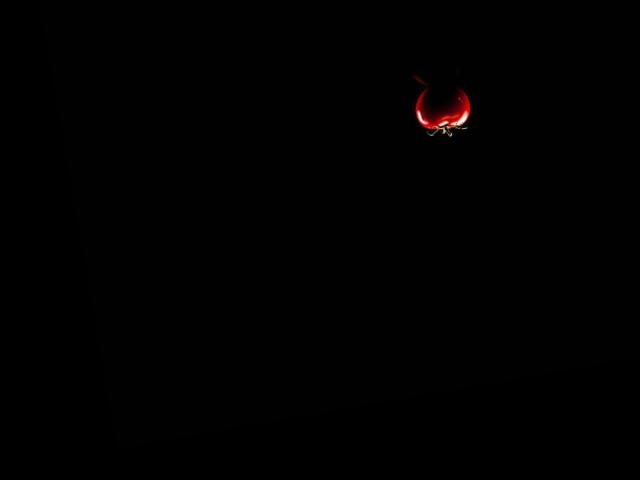tomato: (412, 81, 474, 134)
